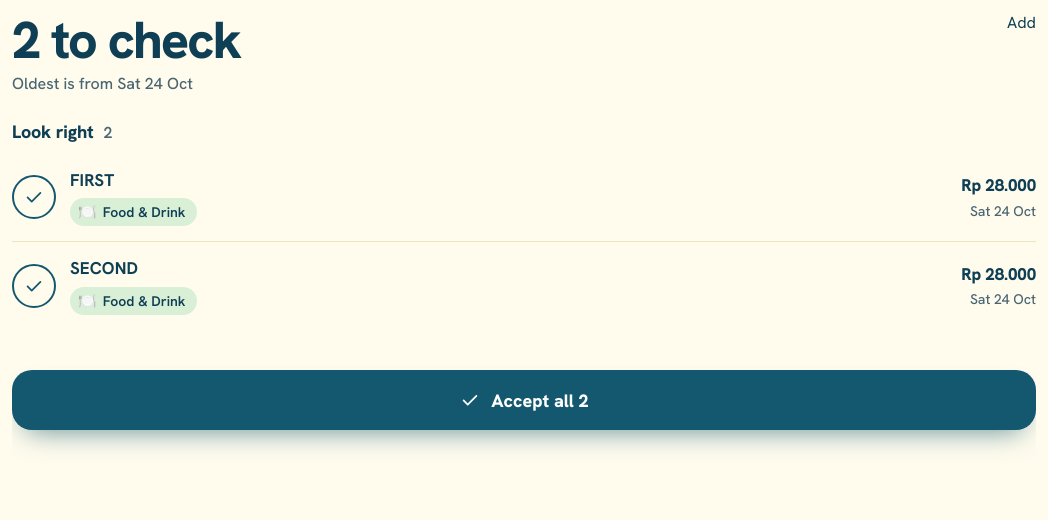
Test: the tick › keeps the line and says why when accepting fails
This screenshot has width=1048, height=520.
Click the button named "Accept FIRST, Rp 28.000".
click(34, 198)  # box [12,176,56,220]
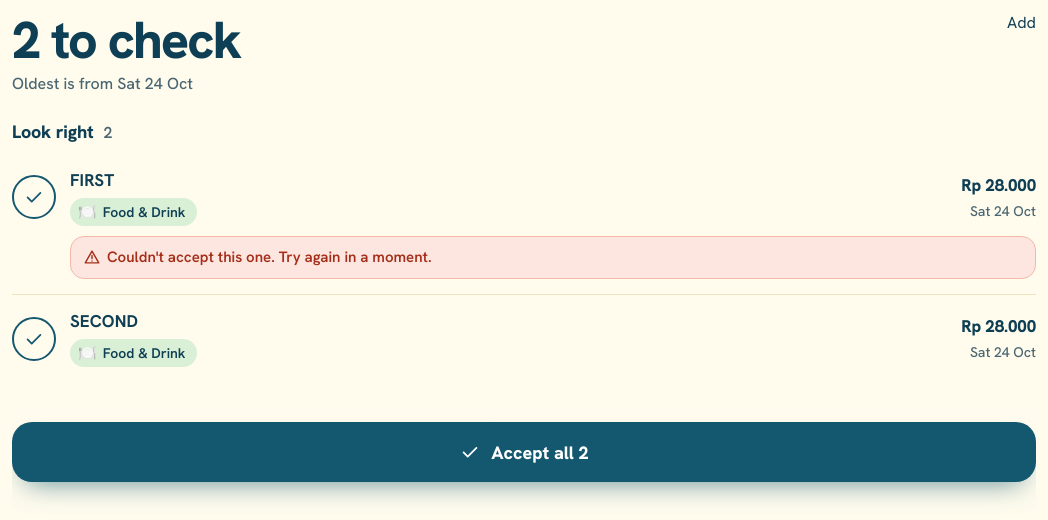
Expected: the text "Couldn't accept this one. Try again in a moment." is shown, [107,247,432,268]
